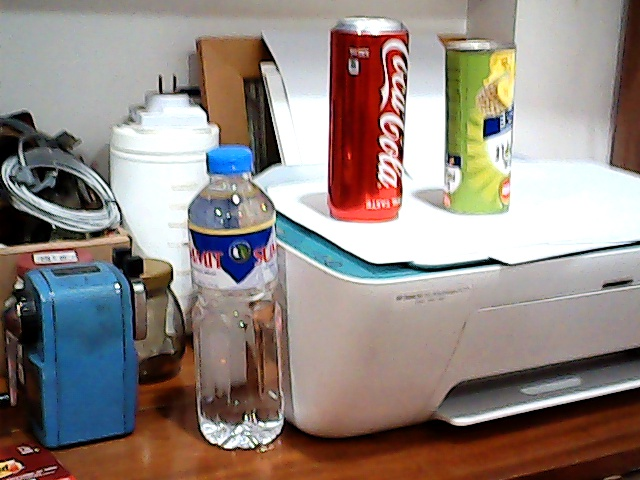Cola: (322, 13, 409, 227)
Pine Juice: (433, 24, 522, 215)
Summit Water: (185, 145, 291, 441)
